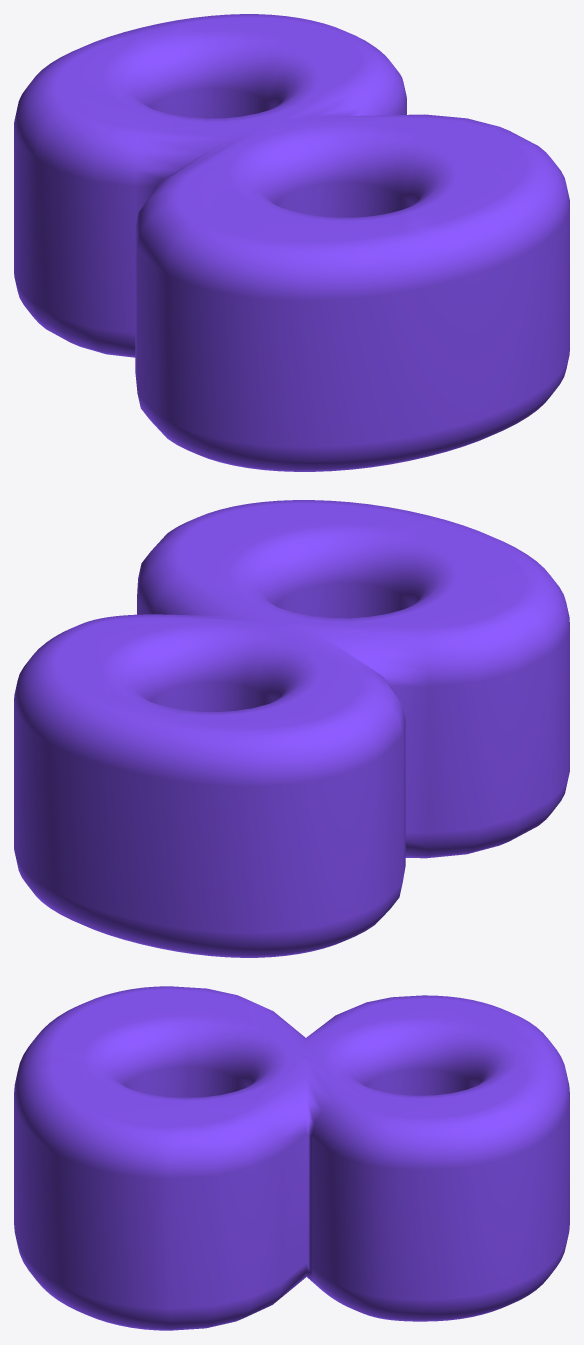
File: Eight.fbx
The picture shows the model from 3 angles, top to bottom: view 1: azimuth 30°, elevation 25°; view 2: azimuth 150°, elevation 25°; view 3: azimuth 270°, elevation 25°; orthographic projection. The views are drawn at different scales.
Visible parts, largest first — view 1: polySurface8; view 2: polySurface8; view 3: polySurface8.
Part boxes in pixels (bbox=[...]): polySurface8: bbox=[14, 14, 569, 471]; polySurface8: bbox=[14, 500, 569, 957]; polySurface8: bbox=[14, 986, 569, 1330].
Bounding box in the file's own units: 0.4435 × 0.2429 × 0.6121.
Materials: 1 (1 with a texture image).
